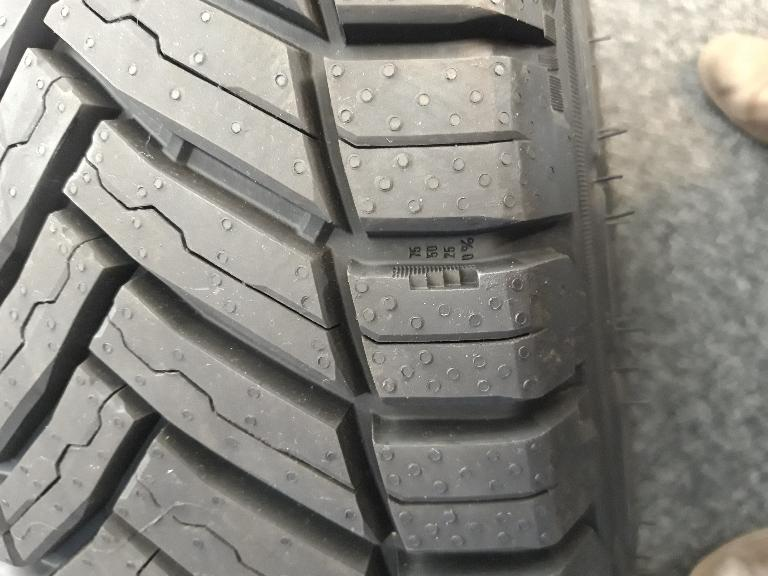temoin:100: (389, 264, 484, 292)
